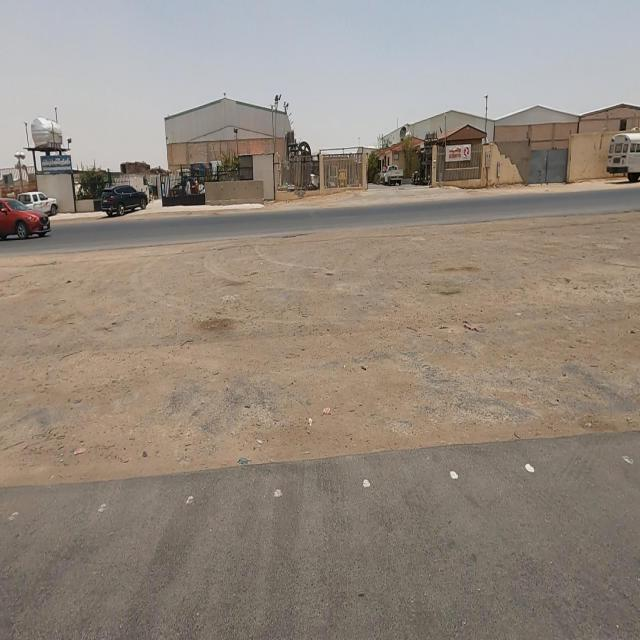debris: (442, 290, 508, 368)
